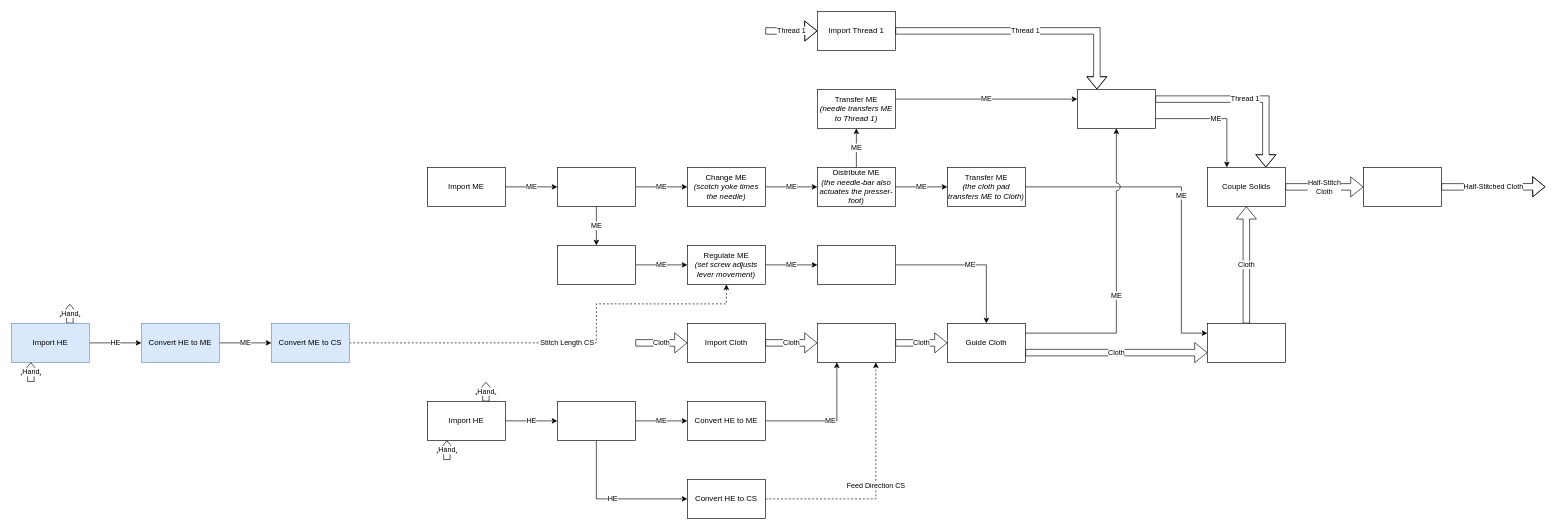
This 1557x530 diagram has some shape labels left out. The centre of each missing label's shape, as x and y in pixels:
"Change ME (peripheral cam times the feed-lever)" goes at point 596,264.
"Distribute HE" goes at point 596,420.
"Distribute ME" goes at point 596,186.
"Export Solid" goes at point 1402,186.
"Guide Thread 1 (ME also comes from cloth due to vibratory needle & timing)" goes at point 1116,108.
"Regulate Cloth" goes at point 856,342.
"Secure Cloth (the pad secures the cloth as the needle descends)" goes at point 1246,342.
"Transfer ME (lever transfers ME to cloth)" goes at point 856,264.
